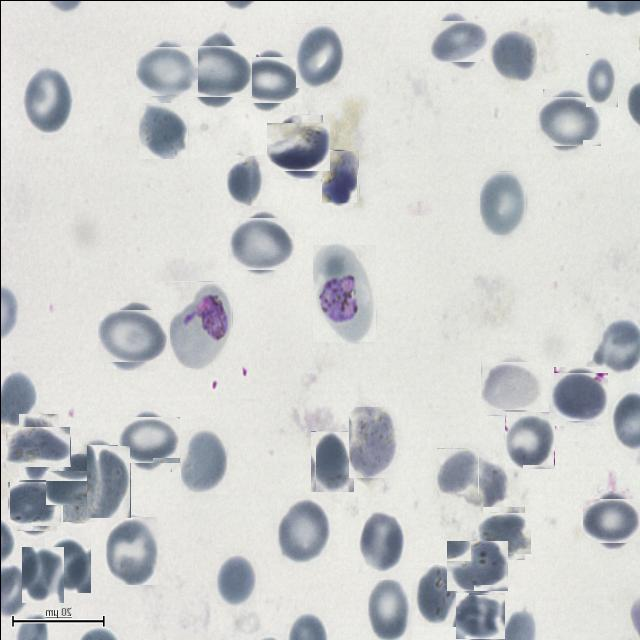red blood cell: (100, 304, 162, 366), (184, 40, 247, 101), (104, 516, 157, 584), (230, 212, 290, 272), (276, 498, 330, 564), (348, 406, 398, 477), (22, 64, 73, 132), (538, 92, 596, 149), (448, 538, 506, 594), (86, 444, 130, 517), (295, 22, 344, 87), (138, 42, 194, 98), (270, 118, 326, 174), (120, 412, 176, 467), (483, 357, 538, 412), (242, 52, 296, 108), (479, 170, 526, 234), (180, 429, 226, 493), (550, 368, 604, 422), (358, 509, 404, 572), (504, 411, 554, 468), (138, 101, 188, 158), (414, 562, 458, 626), (12, 420, 64, 473), (367, 578, 411, 640), (586, 494, 638, 546), (310, 430, 354, 491), (431, 15, 483, 66), (490, 28, 538, 82), (44, 536, 90, 592), (54, 462, 104, 512), (9, 479, 58, 528), (21, 546, 63, 602), (456, 590, 504, 638), (479, 509, 527, 556), (215, 553, 255, 606), (226, 154, 265, 205), (321, 149, 358, 202), (436, 447, 478, 493), (585, 53, 618, 106)
trophozoite: (312, 243, 376, 341), (169, 280, 232, 367)
